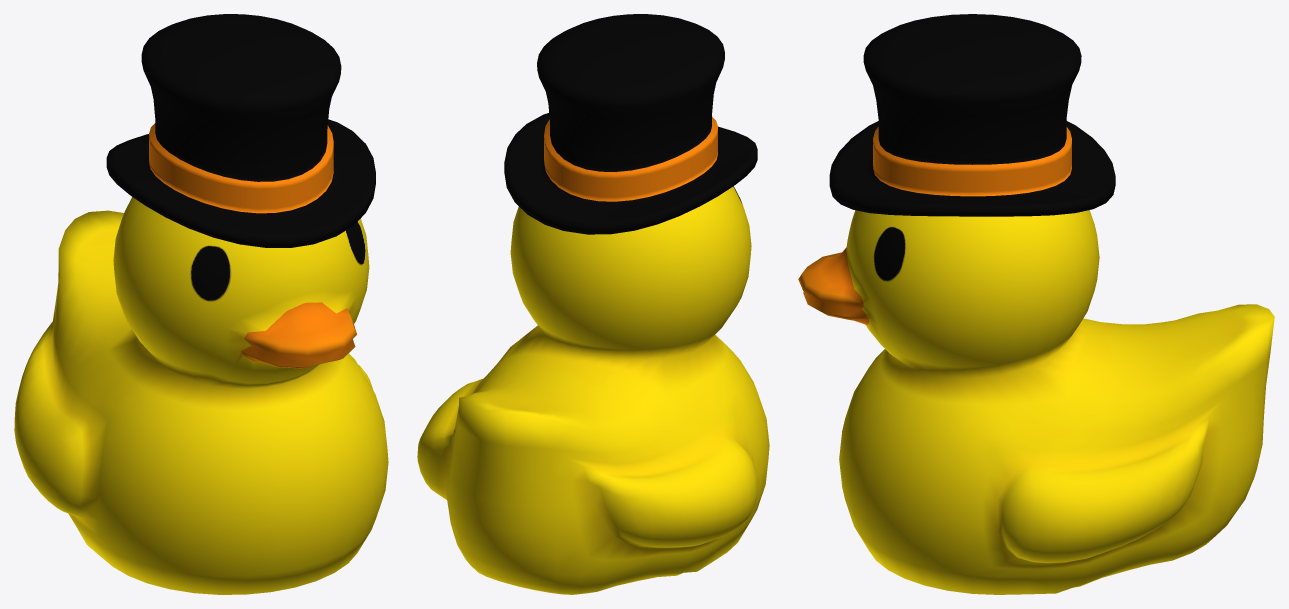
The model's file is DuckRubberHat.gltf.
3 renders of one model, left to right at view 1: azimuth 30°, elevation 25°; view 2: azimuth 150°, elevation 25°; view 3: azimuth 270°, elevation 25°, orthographic. The views are drawn at different scales.
Parts seen in each view (by area): view 1: DuckRubber, HatTop, HatDerby; view 2: DuckRubber, HatTop, HatDerby; view 3: DuckRubber, HatTop, HatDerby.
Boxes of the visible parts, <box> form: DuckRubber: <box>14,197,388,594</box>; HatTop: <box>141,14,341,163</box>; HatDerby: <box>106,119,375,247</box>; DuckRubber: <box>417,186,769,594</box>; HatTop: <box>537,14,724,154</box>; HatDerby: <box>504,113,757,234</box>; DuckRubber: <box>798,210,1274,594</box>; HatTop: <box>863,14,1081,159</box>; HatDerby: <box>829,119,1115,216</box>.
Bounding box in the file's own units: 2.37 × 3.44 × 3.
1 material, 1 textured.
